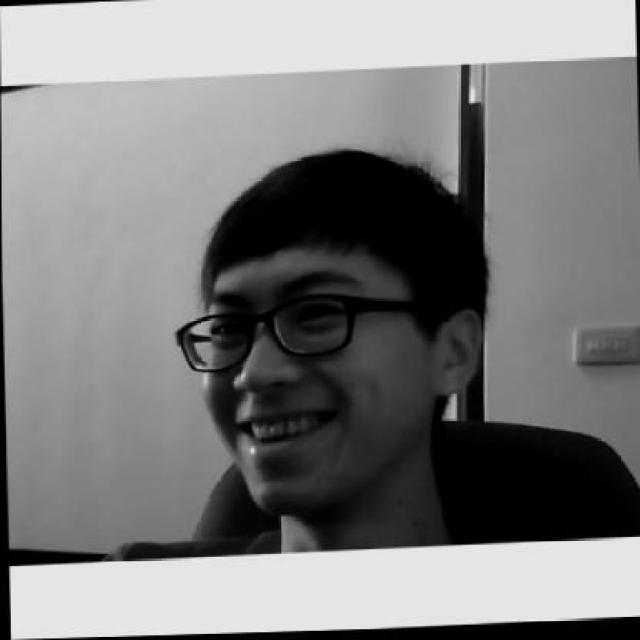attentif: (169, 146, 482, 519)
